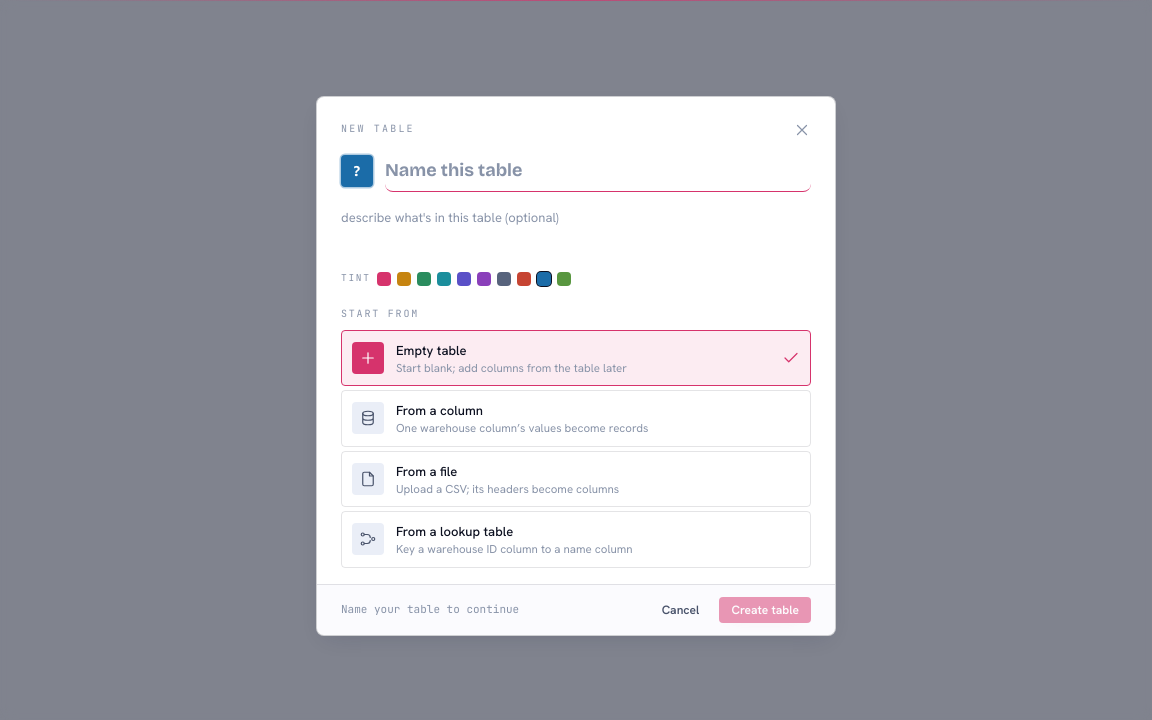
Test case: CreateTableModal — optimistic close › failure surfaces an error toast with the error message
Type "My Table" into the field with placeholder "Name this table".
click(598, 171); type("My Table")  # box [385, 151, 811, 192]
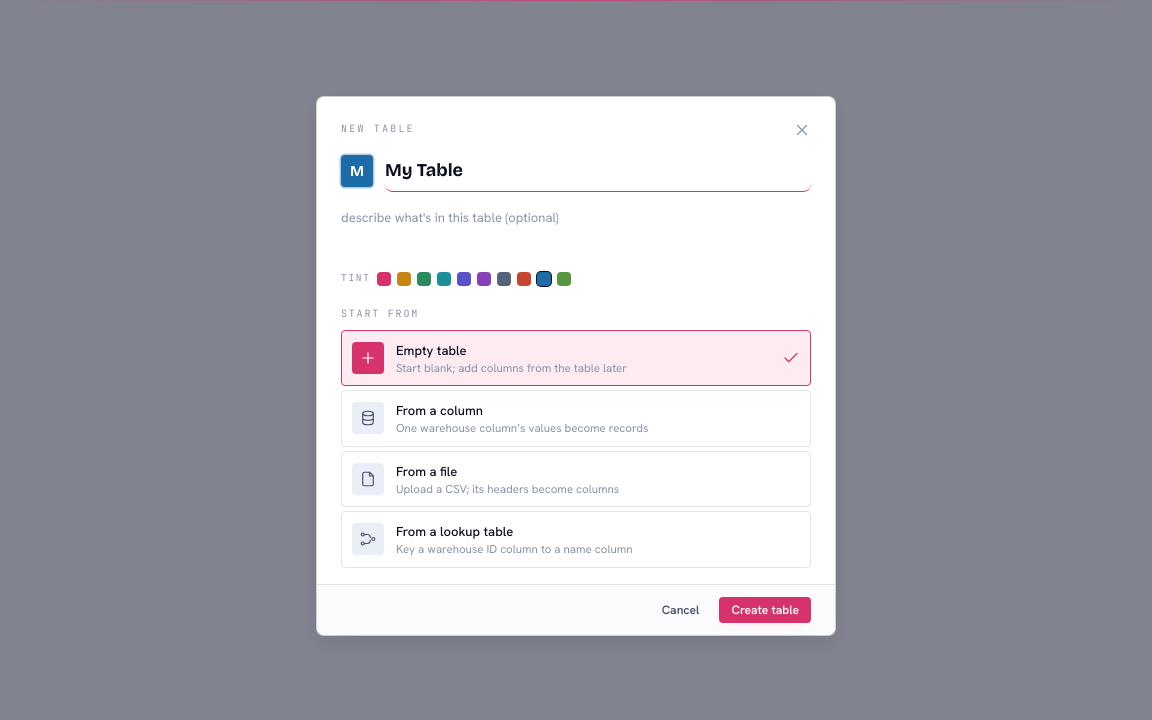
Click the button "Create table".
click(765, 610)  # box [719, 597, 811, 623]
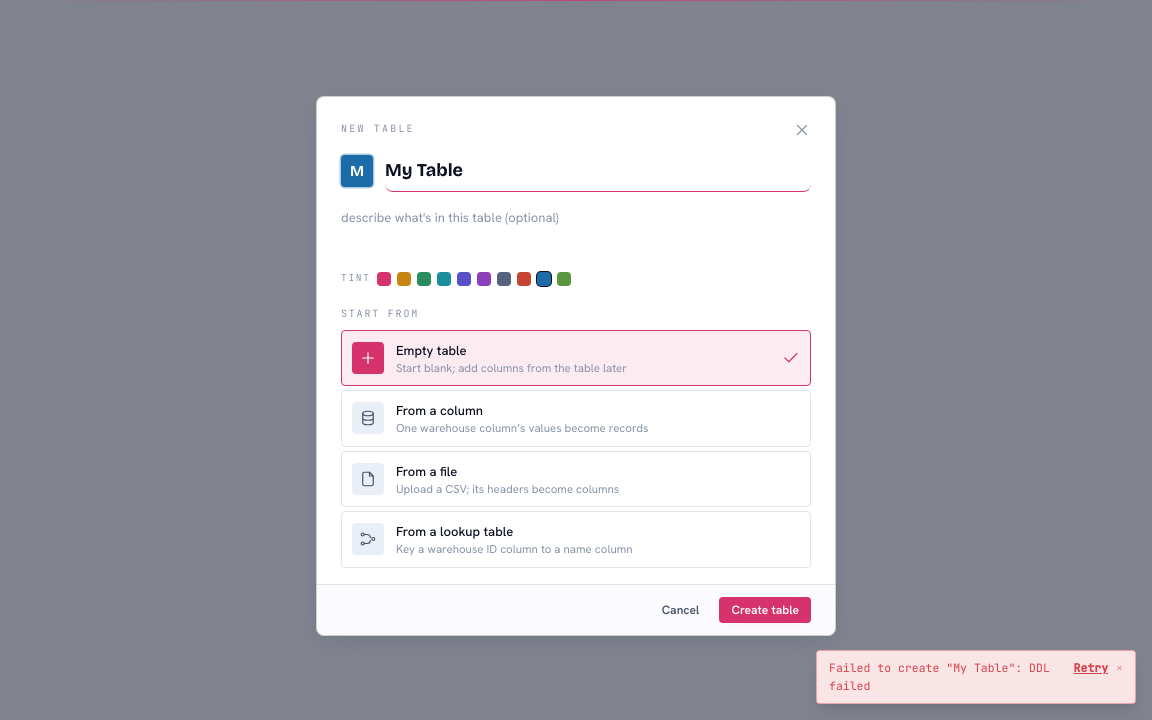
Expected: the message "Failed to create \"My Table\": DDL failed Retry ×" is shown, [816, 650, 1136, 704]
Expected: the text "Failed to create \"My Table\": DDL failed" is shown, [829, 659, 1066, 695]
